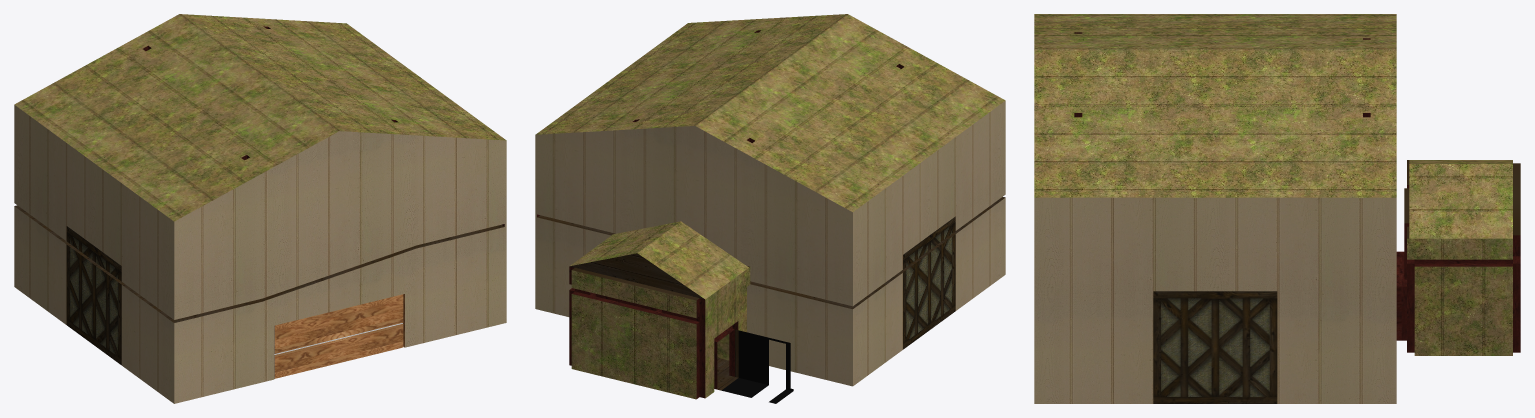
File: tradingCompanyINT.gltf
3 renders of one model, left to right at view 1: azimuth 30°, elevation 25°; view 2: azimuth 150°, elevation 25°; view 3: azimuth 270°, elevation 25°, orthographic. The views are drawn at different scales.
Parts seen in each view (by area): view 1: tradingCompanyINT; view 2: tradingCompanyINT; view 3: tradingCompanyINT.
Part boxes in pixels (bbox=[...]): tradingCompanyINT: bbox=[14, 14, 506, 403]; tradingCompanyINT: bbox=[535, 14, 1005, 403]; tradingCompanyINT: bbox=[1034, 14, 1520, 403].
Size of the model in its own units: 21 by 14.03 by 23.5.
Materials: 11 (11 with a texture image).
